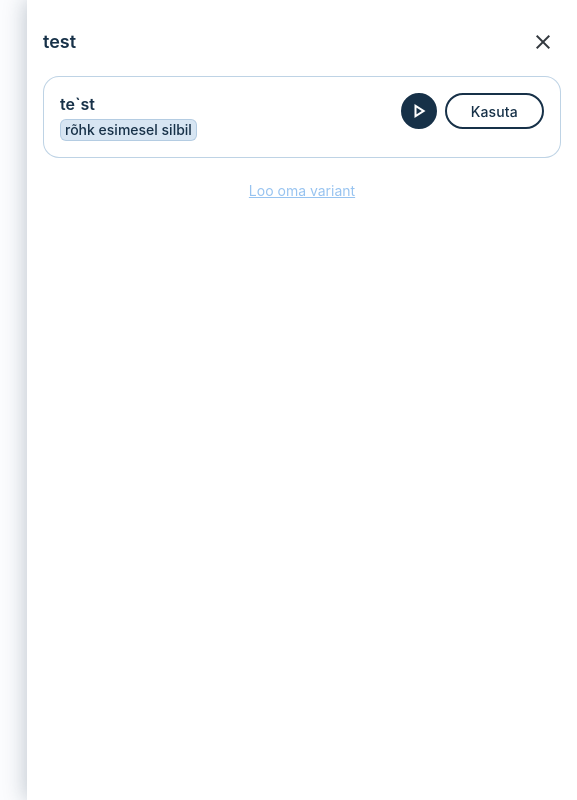
Test: PronunciationVariants Full › inserts phonetic marker when marker button clicked
What coordinates should you click on to do the following:
click the button "Loo oma variant"
I would click on:
 (302, 191)
Its box is [249,174,355,207].
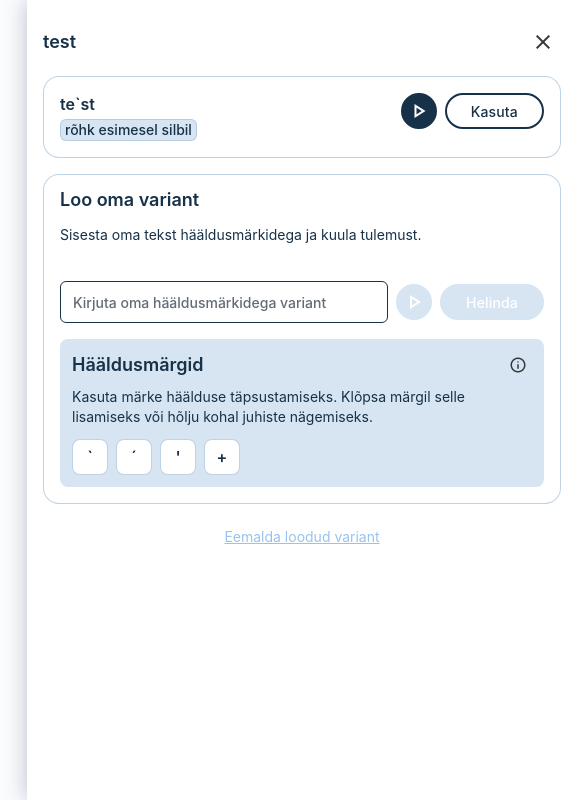
What coordinates should you click on to do the following:
click the field with placeholder "Kirjuta oma hääldusmärkidega variant"
I would click on:
 (224, 302)
Its box is [60,281,388,323].
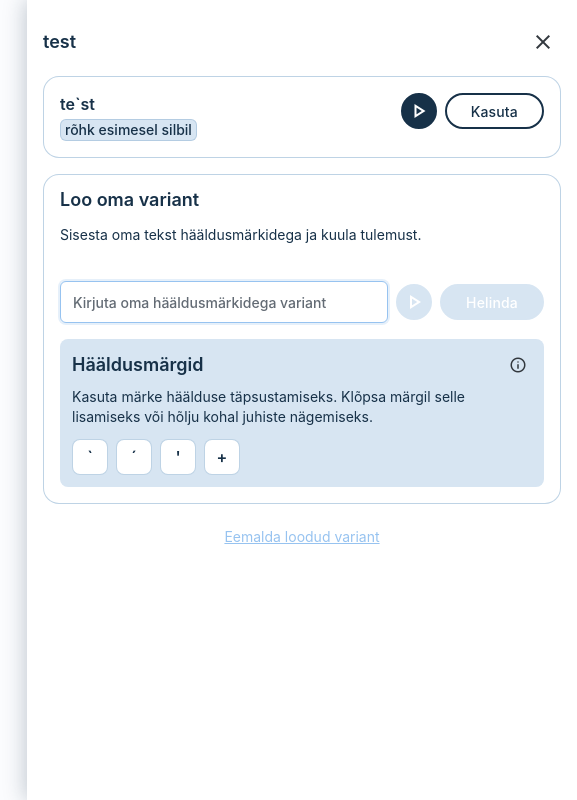
What coordinates should you click on to do the following:
click the button named "kolmas välde"
I would click on:
 (90, 457)
Its box is [72,439,108,475].
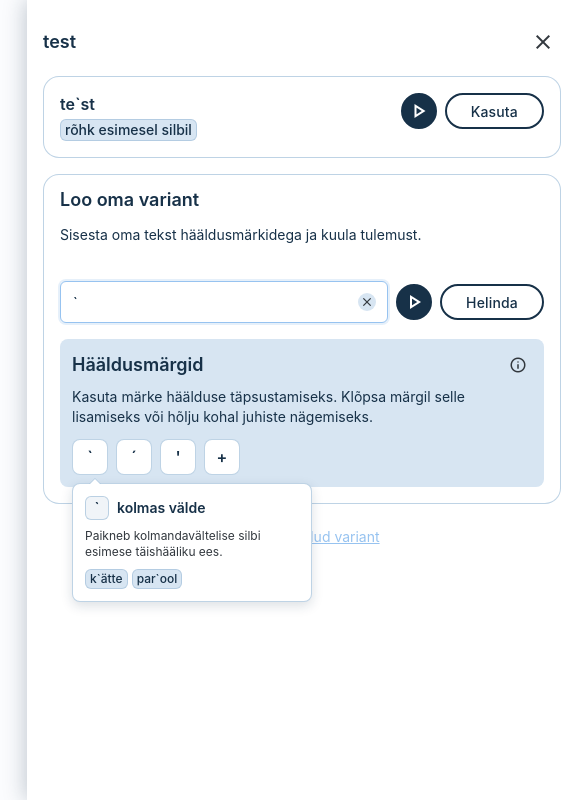
Now the field with placeholder "Kirjuta oma hääldusmärkidega variant" holds "`", box [60,281,388,323]
